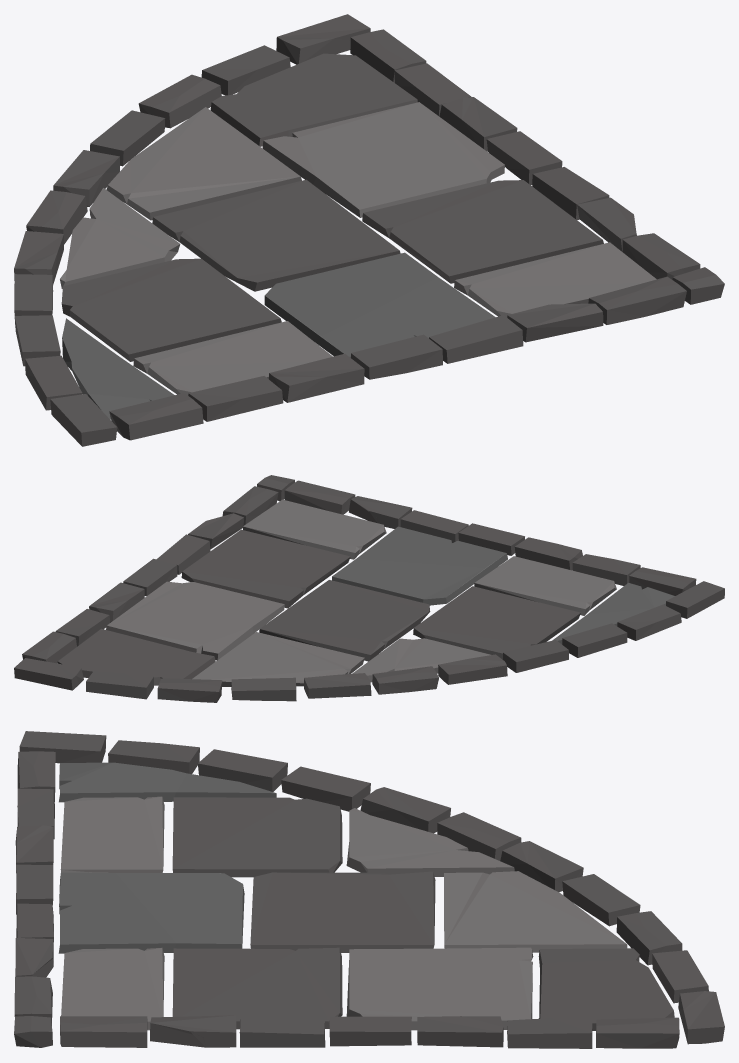
File: StonePathCurve_01.glb
The picture shows the model from 3 angles, top to bottom: view 1: azimuth 30°, elevation 25°; view 2: azimuth 150°, elevation 25°; view 3: azimuth 270°, elevation 25°; orthographic projection. The views are drawn at different scales.
Visible parts, largest first — view 1: StonePathCurve_01; view 2: StonePathCurve_01; view 3: StonePathCurve_01.
Part boxes in pixels (x1,y1,x2,y2): StonePathCurve_01: (14,14,724,446); StonePathCurve_01: (14,475,724,702); StonePathCurve_01: (14,731,724,1048).
Size of what is drawn, in the model's own units: 2 by 0.0572 by 1.99.
1 material, 1 textured.
